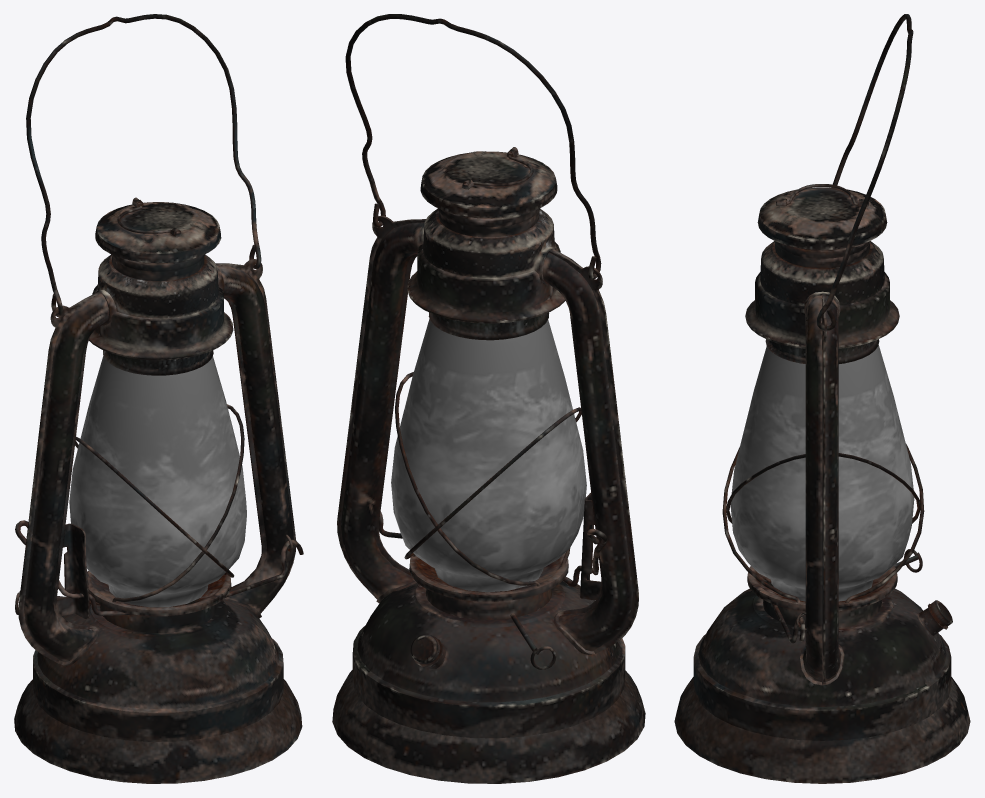
The model's file is Lamp1.fbx.
3 renders of one model, left to right at view 1: azimuth 30°, elevation 25°; view 2: azimuth 150°, elevation 25°; view 3: azimuth 270°, elevation 25°, orthographic. The views are drawn at different scales.
Visible parts, largest first — view 1: Lamp_Low; view 2: Lamp_Low; view 3: Lamp_Low.
Boxes of the visible parts, x1=… form: Lamp_Low: x1=14, y1=14, x2=303, y2=783; Lamp_Low: x1=332, y1=14, x2=645, y2=783; Lamp_Low: x1=674, y1=14, x2=970, y2=783.
Size of the model in its own units: 182 by 422 by 164.
Materials: 1 (1 with a texture image).
